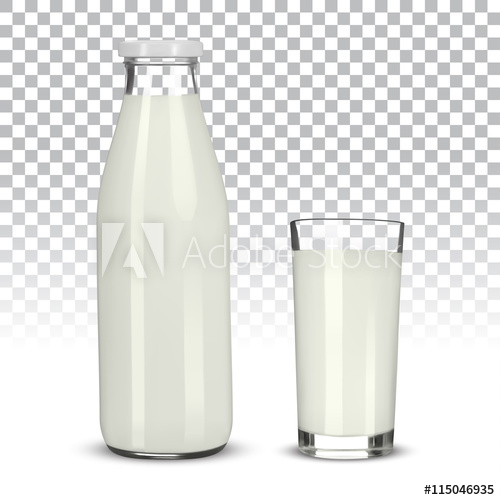glass of milk: (89, 28, 250, 471), (276, 203, 403, 471)
